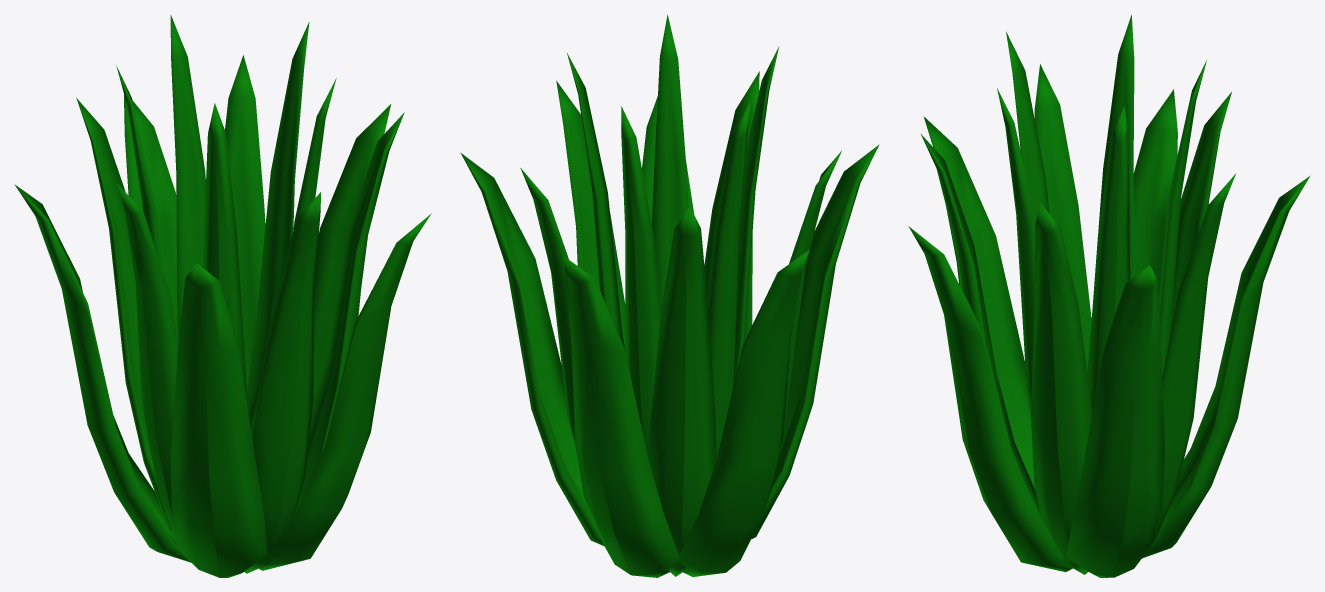
The model's file is SM_Aloe_001.fbx.
The picture shows the model from 3 angles, left to right: view 1: azimuth 30°, elevation 25°; view 2: azimuth 150°, elevation 25°; view 3: azimuth 270°, elevation 25°; orthographic projection.
Parts seen in each view (by area): view 1: Aloe; view 2: Aloe; view 3: Aloe.
Part boxes in pixels (box(x1,y1,x2,y2)): Aloe: box(14, 15, 431, 577); Aloe: box(460, 15, 879, 577); Aloe: box(908, 15, 1310, 577).
Size of the model in its own units: 60.11 by 80.14 by 58.07.
